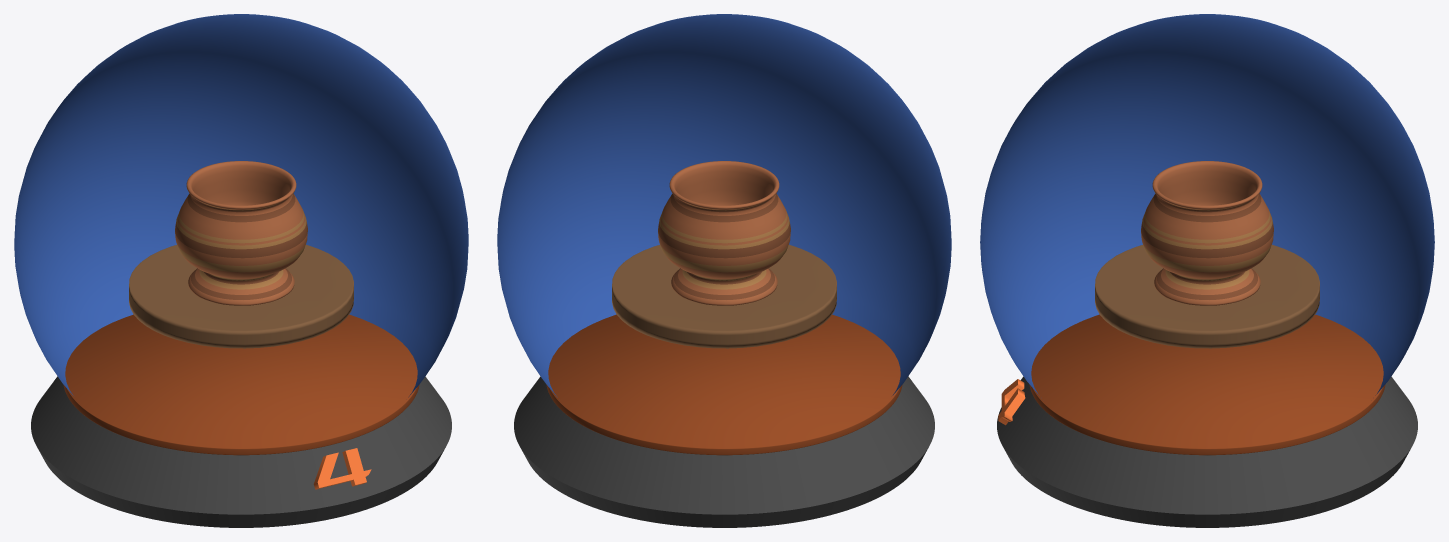
File: Curio_04.glb
The picture shows the model from 3 angles, left to right: view 1: azimuth 30°, elevation 25°; view 2: azimuth 150°, elevation 25°; view 3: azimuth 270°, elevation 25°; orthographic projection.
Visible parts, largest first — view 1: Sphere.017, Sphere.016, Sphere.015, Cylinder.029, Text.009; view 2: Sphere.017, Sphere.016, Sphere.015, Cylinder.029; view 3: Sphere.017, Sphere.016, Sphere.015, Cylinder.029, Text.009.
Boxes of the visible parts, x1,y1,x2,y2 form: Sphere.017: [14, 14, 468, 397]; Sphere.016: [63, 314, 419, 455]; Sphere.015: [31, 376, 451, 527]; Cylinder.029: [129, 161, 353, 348]; Text.009: [313, 448, 371, 489]; Sphere.017: [497, 14, 951, 397]; Sphere.016: [546, 314, 902, 455]; Sphere.015: [514, 376, 934, 527]; Cylinder.029: [612, 161, 836, 348]; Sphere.017: [980, 14, 1434, 395]; Sphere.016: [1029, 314, 1385, 455]; Sphere.015: [997, 376, 1417, 527]; Cylinder.029: [1095, 161, 1319, 348]; Text.009: [998, 379, 1025, 425].
Bounding box in the file's own units: 4.66 × 4.62 × 4.66.
